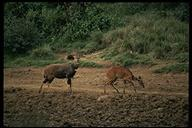antelope: (39, 52, 81, 95), (101, 63, 147, 96)
bush: (101, 13, 189, 60)
